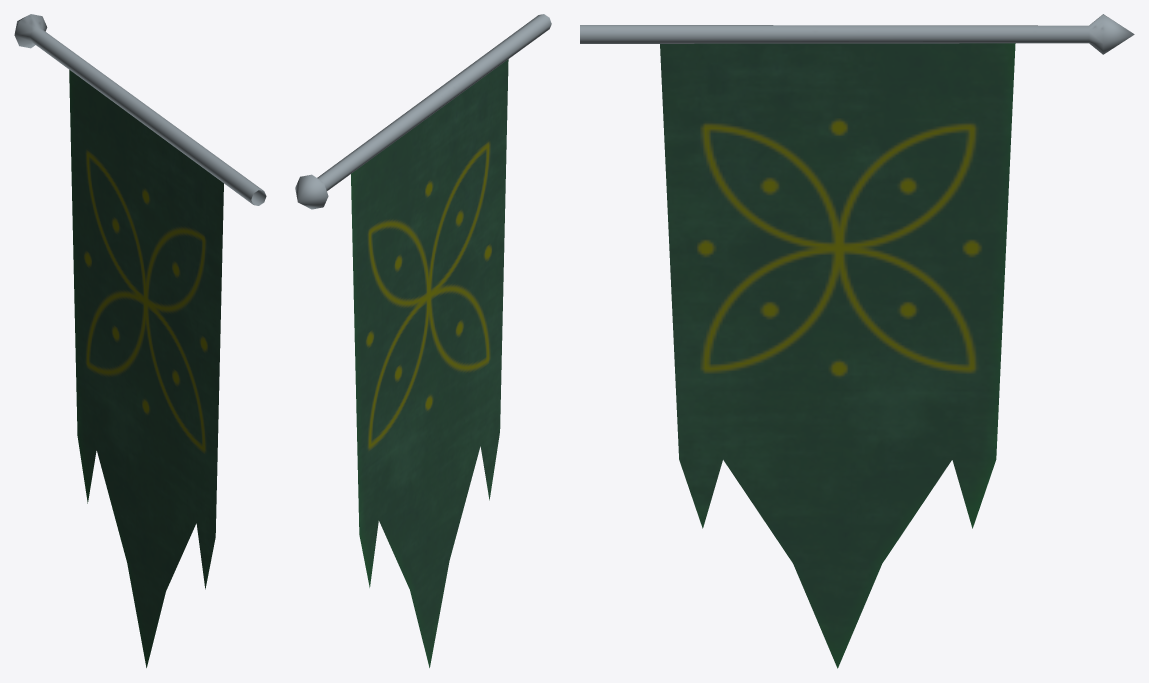
The model's file is Banner1.FBX.
The picture shows the model from 3 angles, left to right: view 1: azimuth 30°, elevation 25°; view 2: azimuth 150°, elevation 25°; view 3: azimuth 270°, elevation 25°; orthographic projection. The views are drawn at different scales.
Visible parts, largest first — view 1: Banner_01; view 2: Banner_01; view 3: Banner_01.
Boxes of the visible parts, bbox=[...] form: Banner_01: bbox=[14, 14, 266, 667]; Banner_01: bbox=[295, 14, 551, 667]; Banner_01: bbox=[580, 14, 1134, 668].
Bounding box in the file's own units: 0.1197 × 1.99 × 1.53.
1 material, 1 textured.
